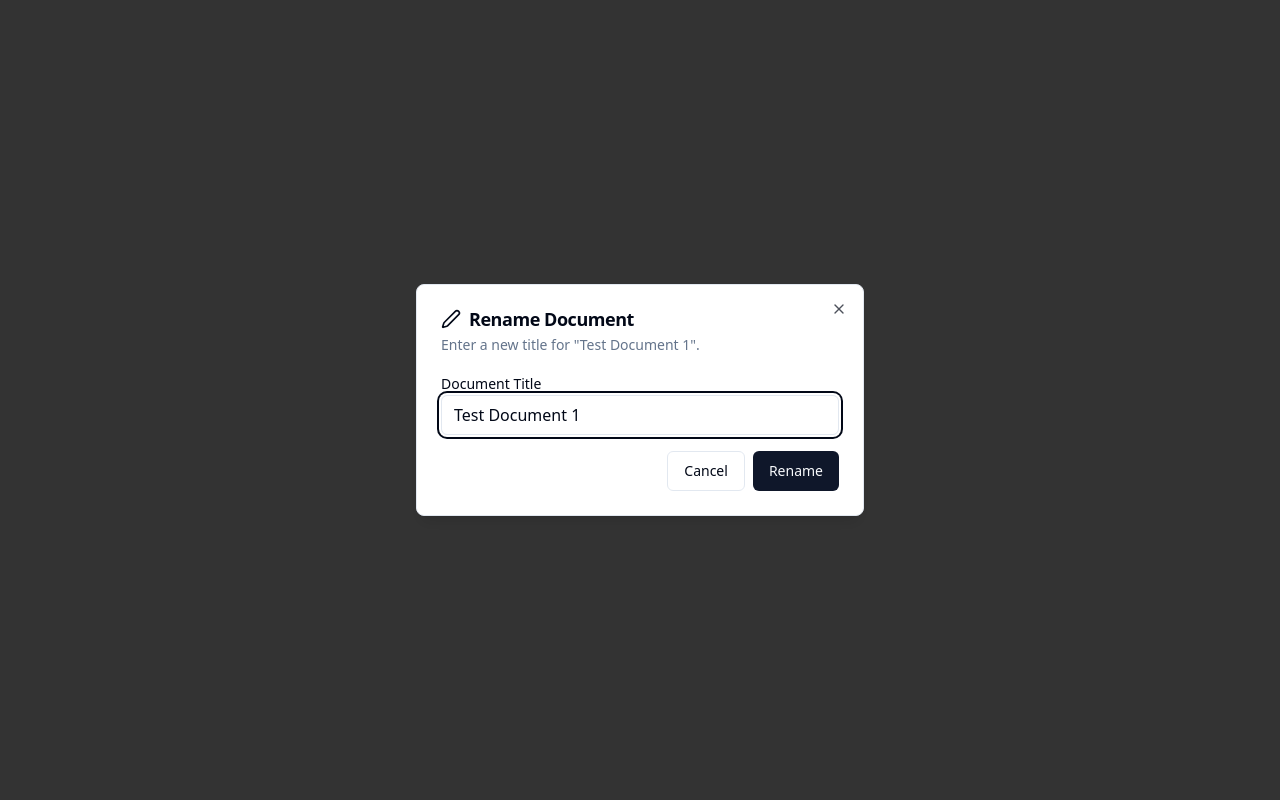
Test: DocumentActions Component › disables submit button when form is invalid
This screenshot has width=1280, height=800.
Clear the field showing "Test Document 1". click: (640, 415)
box: [441,395,839,435]
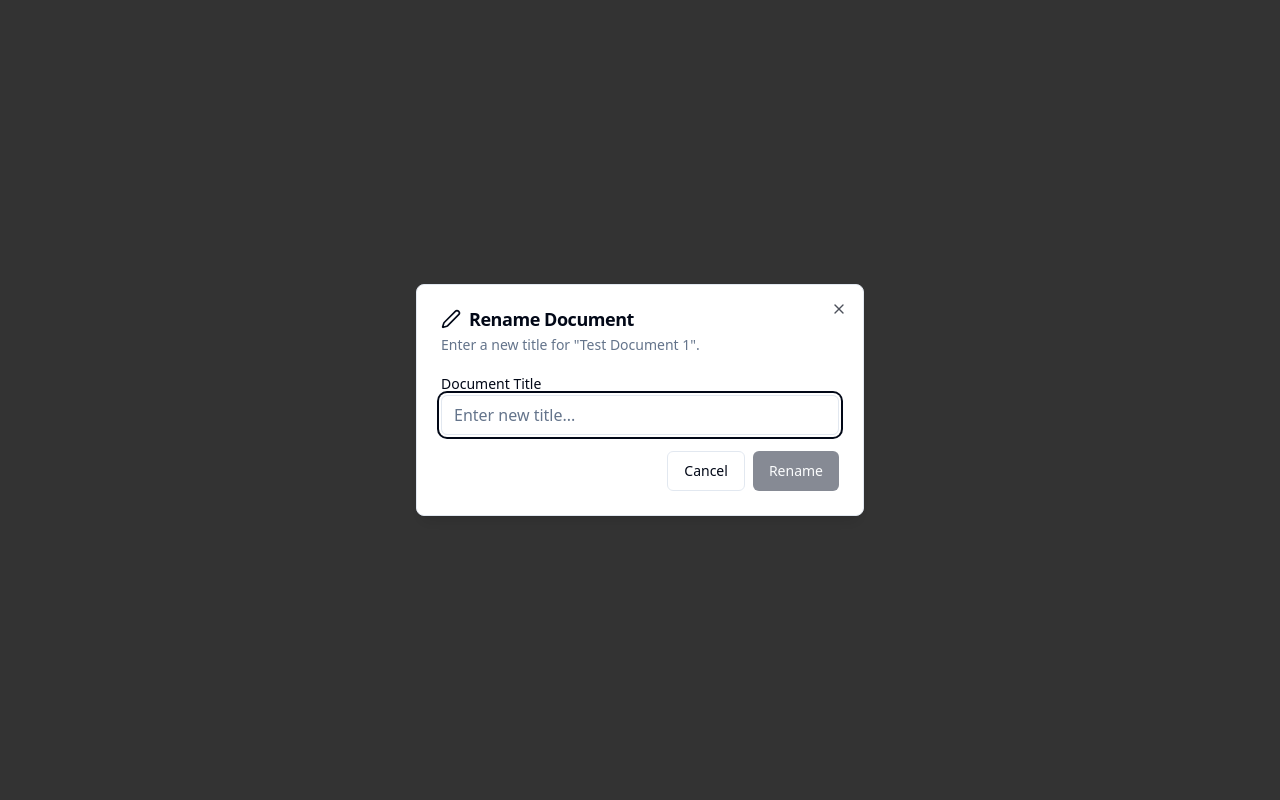
Expected: the button "Rename" is disabled, [753,451,839,491]
